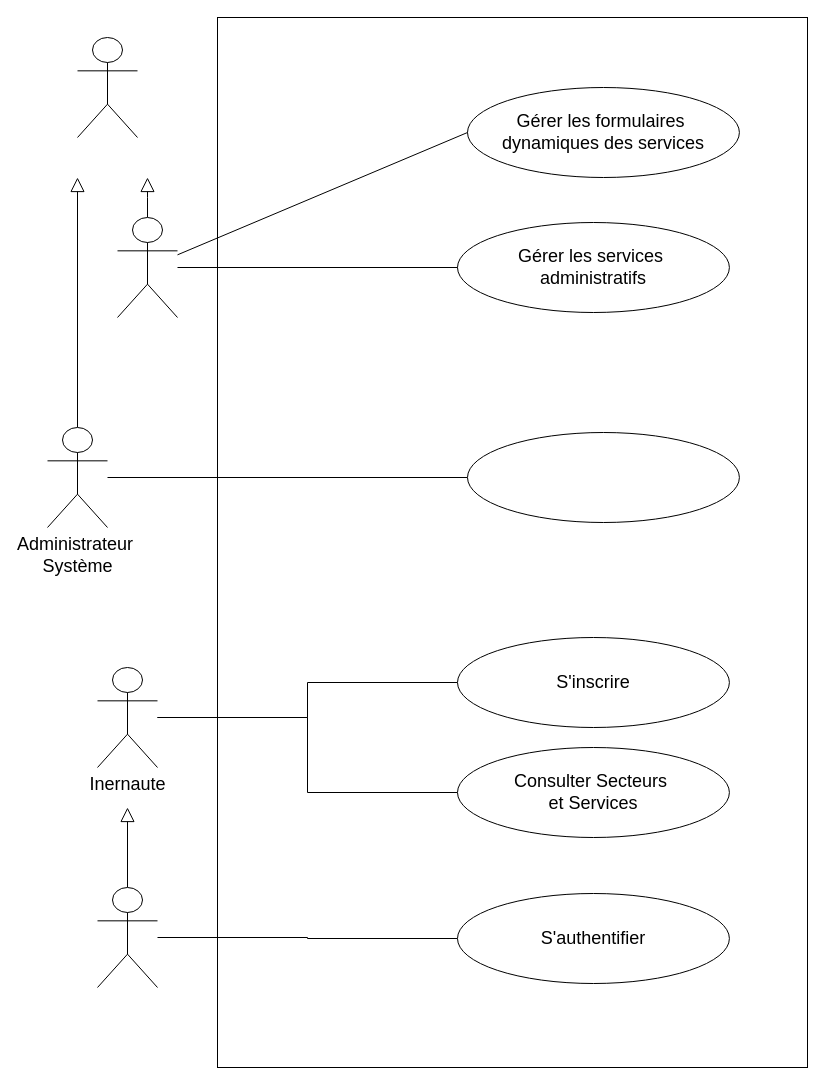
Some shapes in this 825 by 1085 pixel diagram are drawn without their labels. Here are the shapes that lost their labels. From the top down, the centre of each, then its label:
(x=107, y=87): Administrateur
(x=147, y=267): Administrateur Ministériel
(x=602, y=477): Gérer les secteurs de services
(x=127, y=937): client
